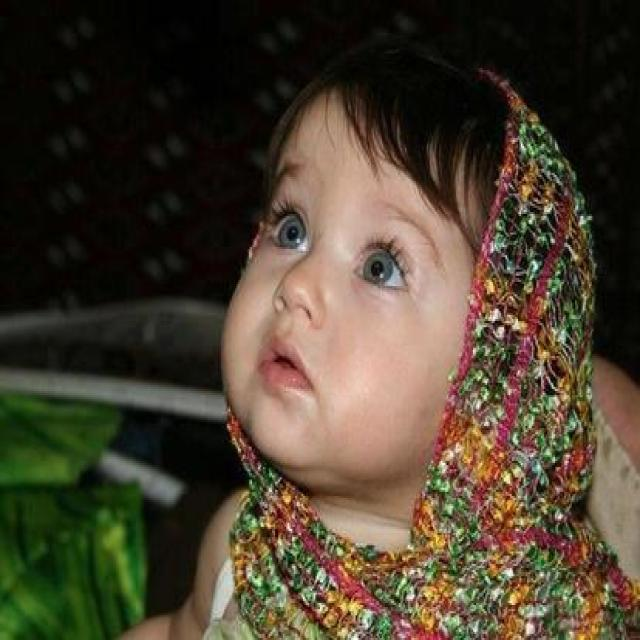non-dog: (117, 38, 640, 640)
